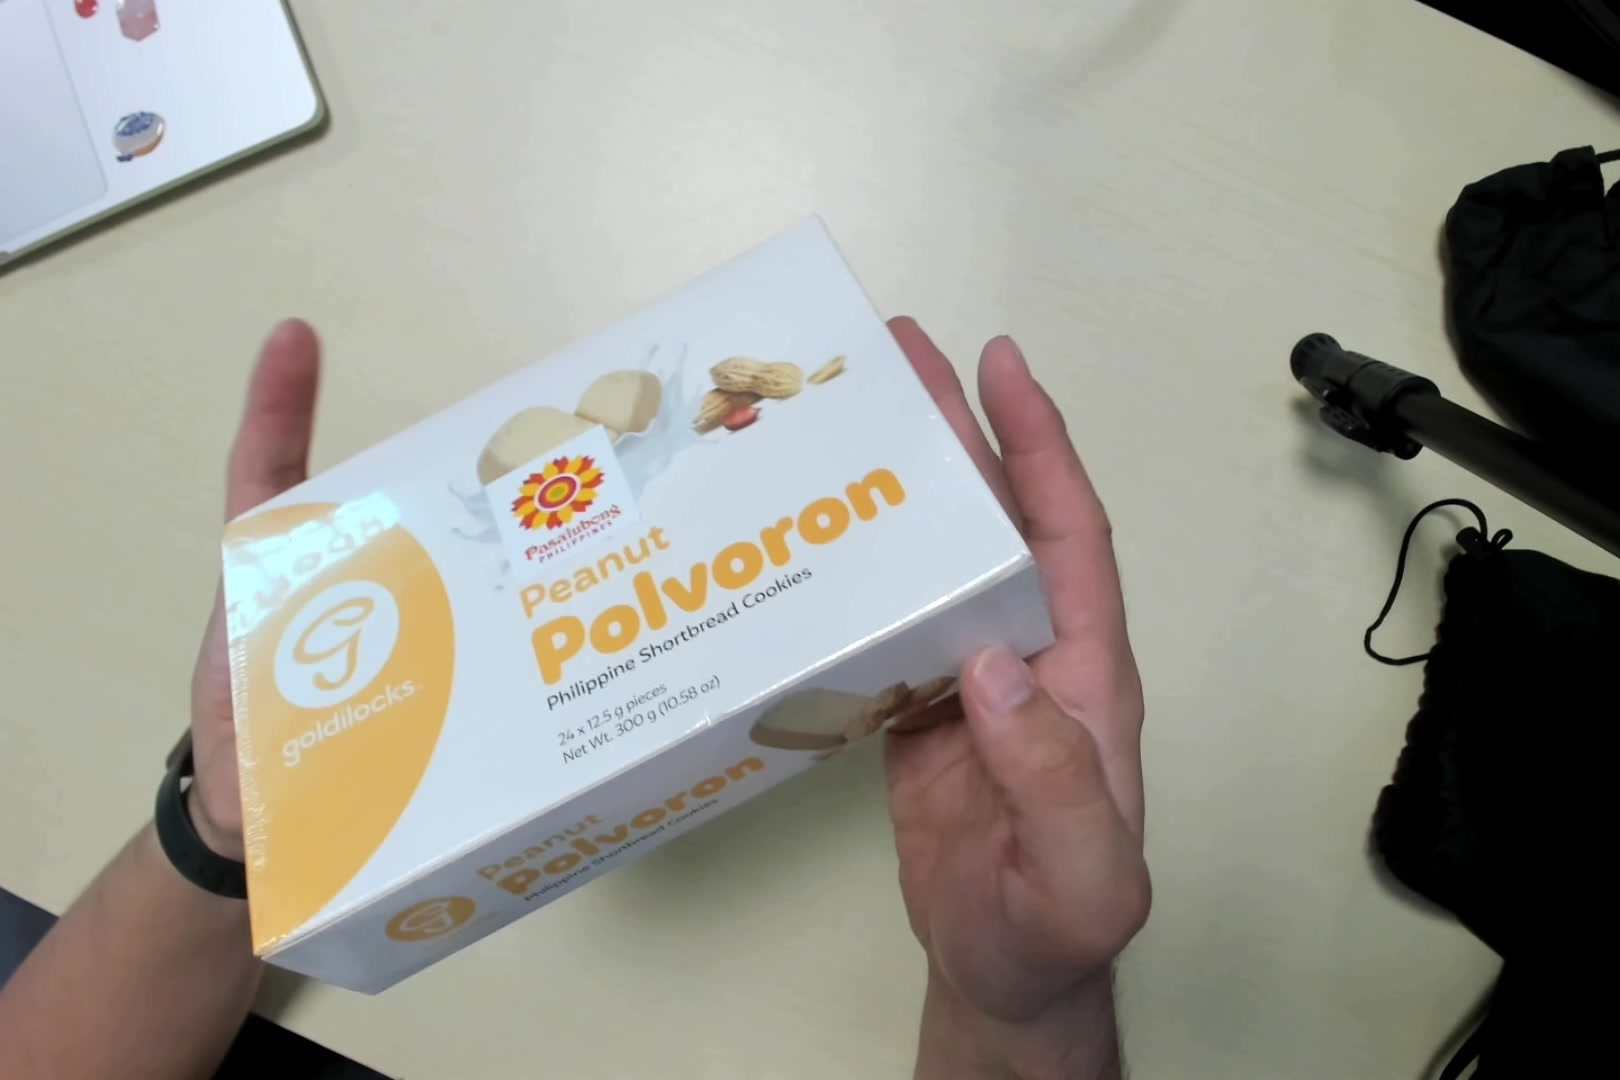SweetsChocolatesOthers_300-399g_Halal_NonHealthy: (231, 225, 1056, 984)
